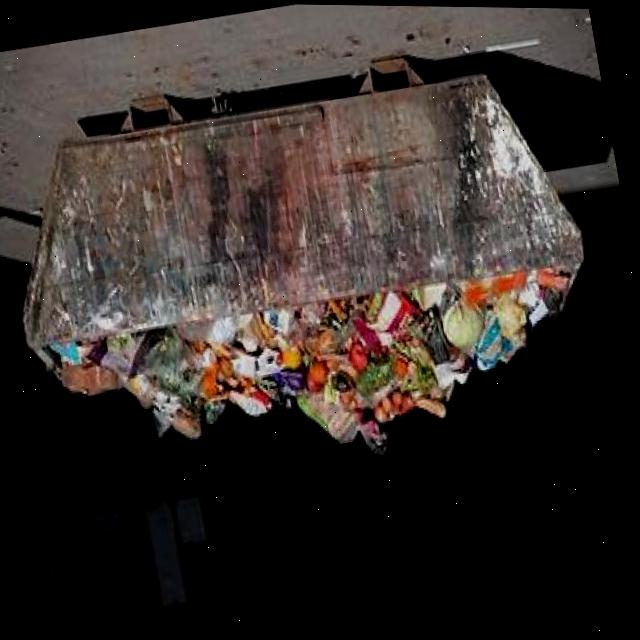Garbage: (41, 244, 577, 455)
Plastic_Bag: (132, 327, 202, 393), (296, 391, 357, 442)
Plastic_wraper: (367, 290, 416, 334), (476, 311, 502, 368)
